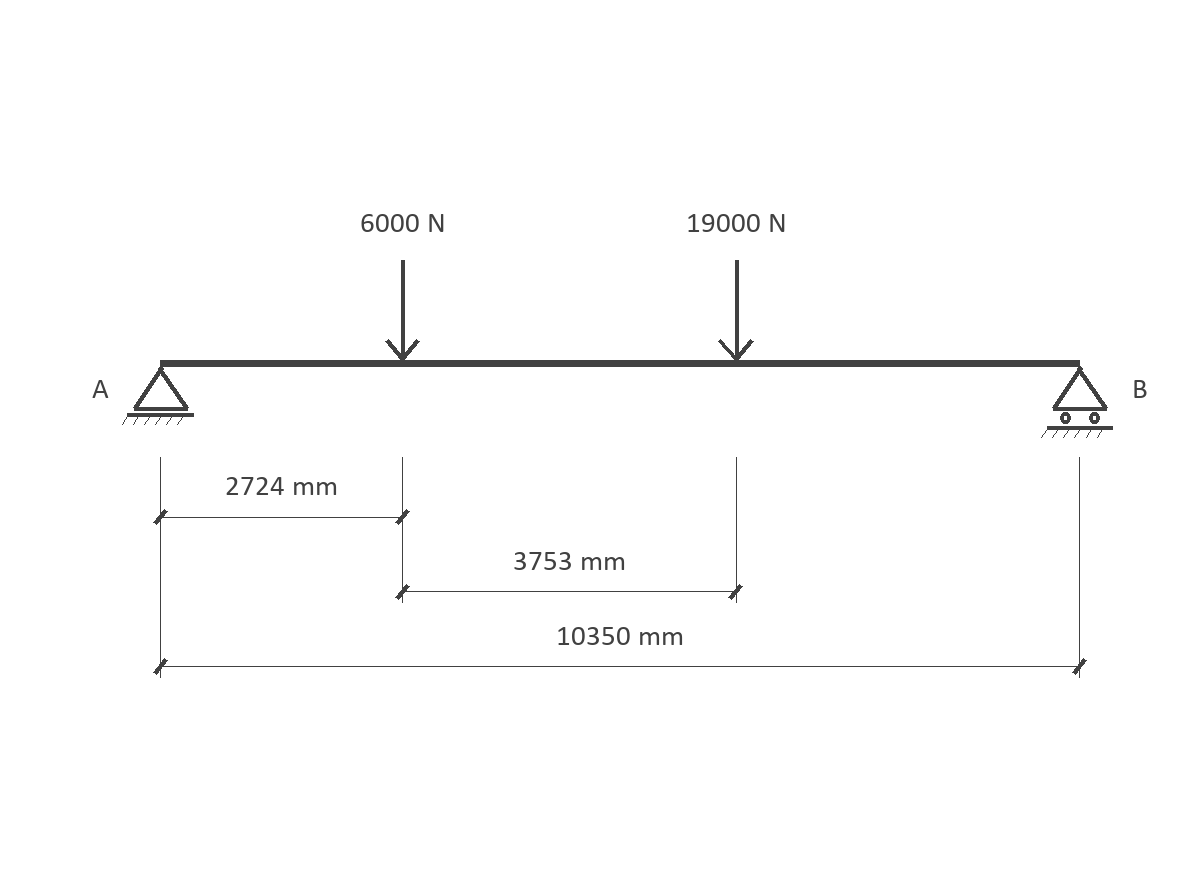pin_support: (122, 366, 194, 425)
point_load: (718, 260, 754, 361), (385, 260, 420, 361)
roller_support: (1041, 366, 1113, 438)
